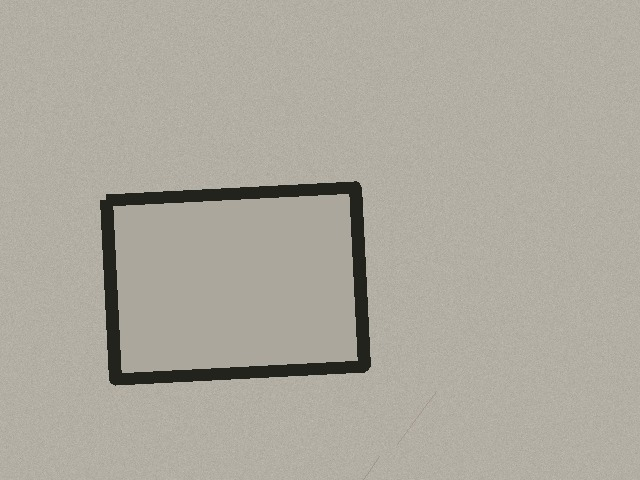parking_area: (106, 187, 364, 379)
